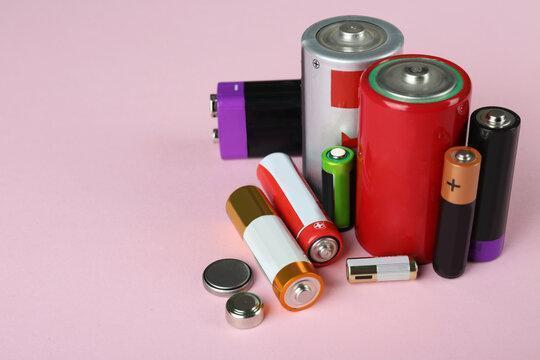AA: (223, 183, 327, 314), (254, 151, 345, 269), (430, 144, 482, 283)
COIN: (201, 256, 256, 299), (224, 290, 267, 331)
